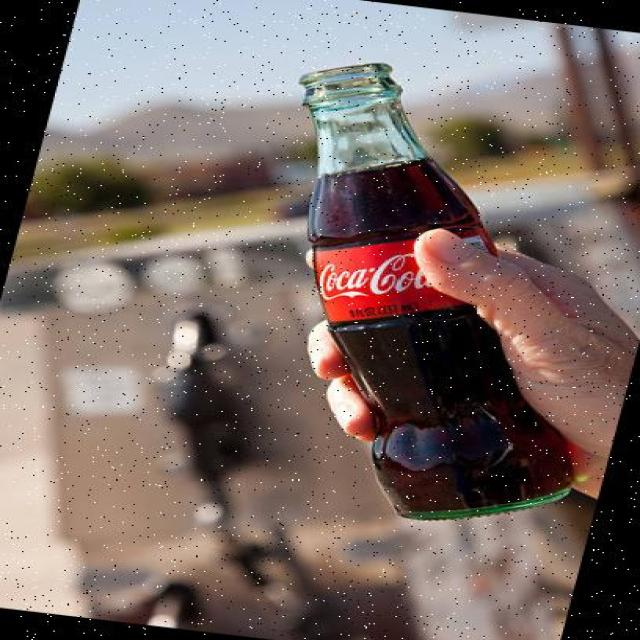coca-cola: (163, 46, 640, 547)
